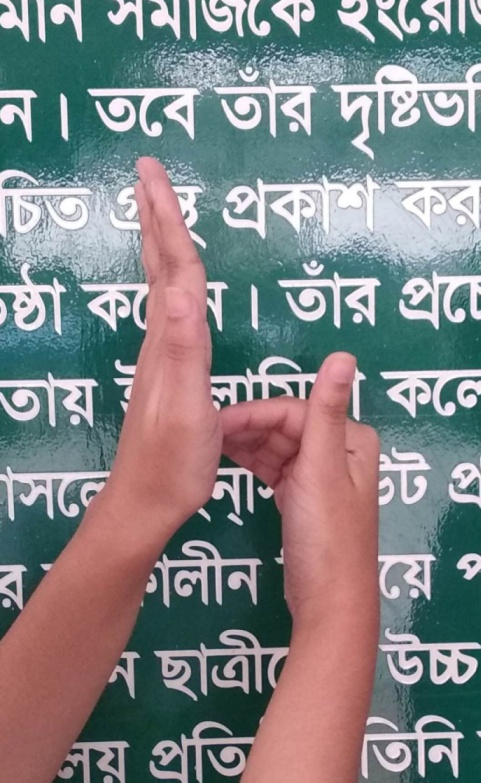ga: (106, 147, 384, 624)
